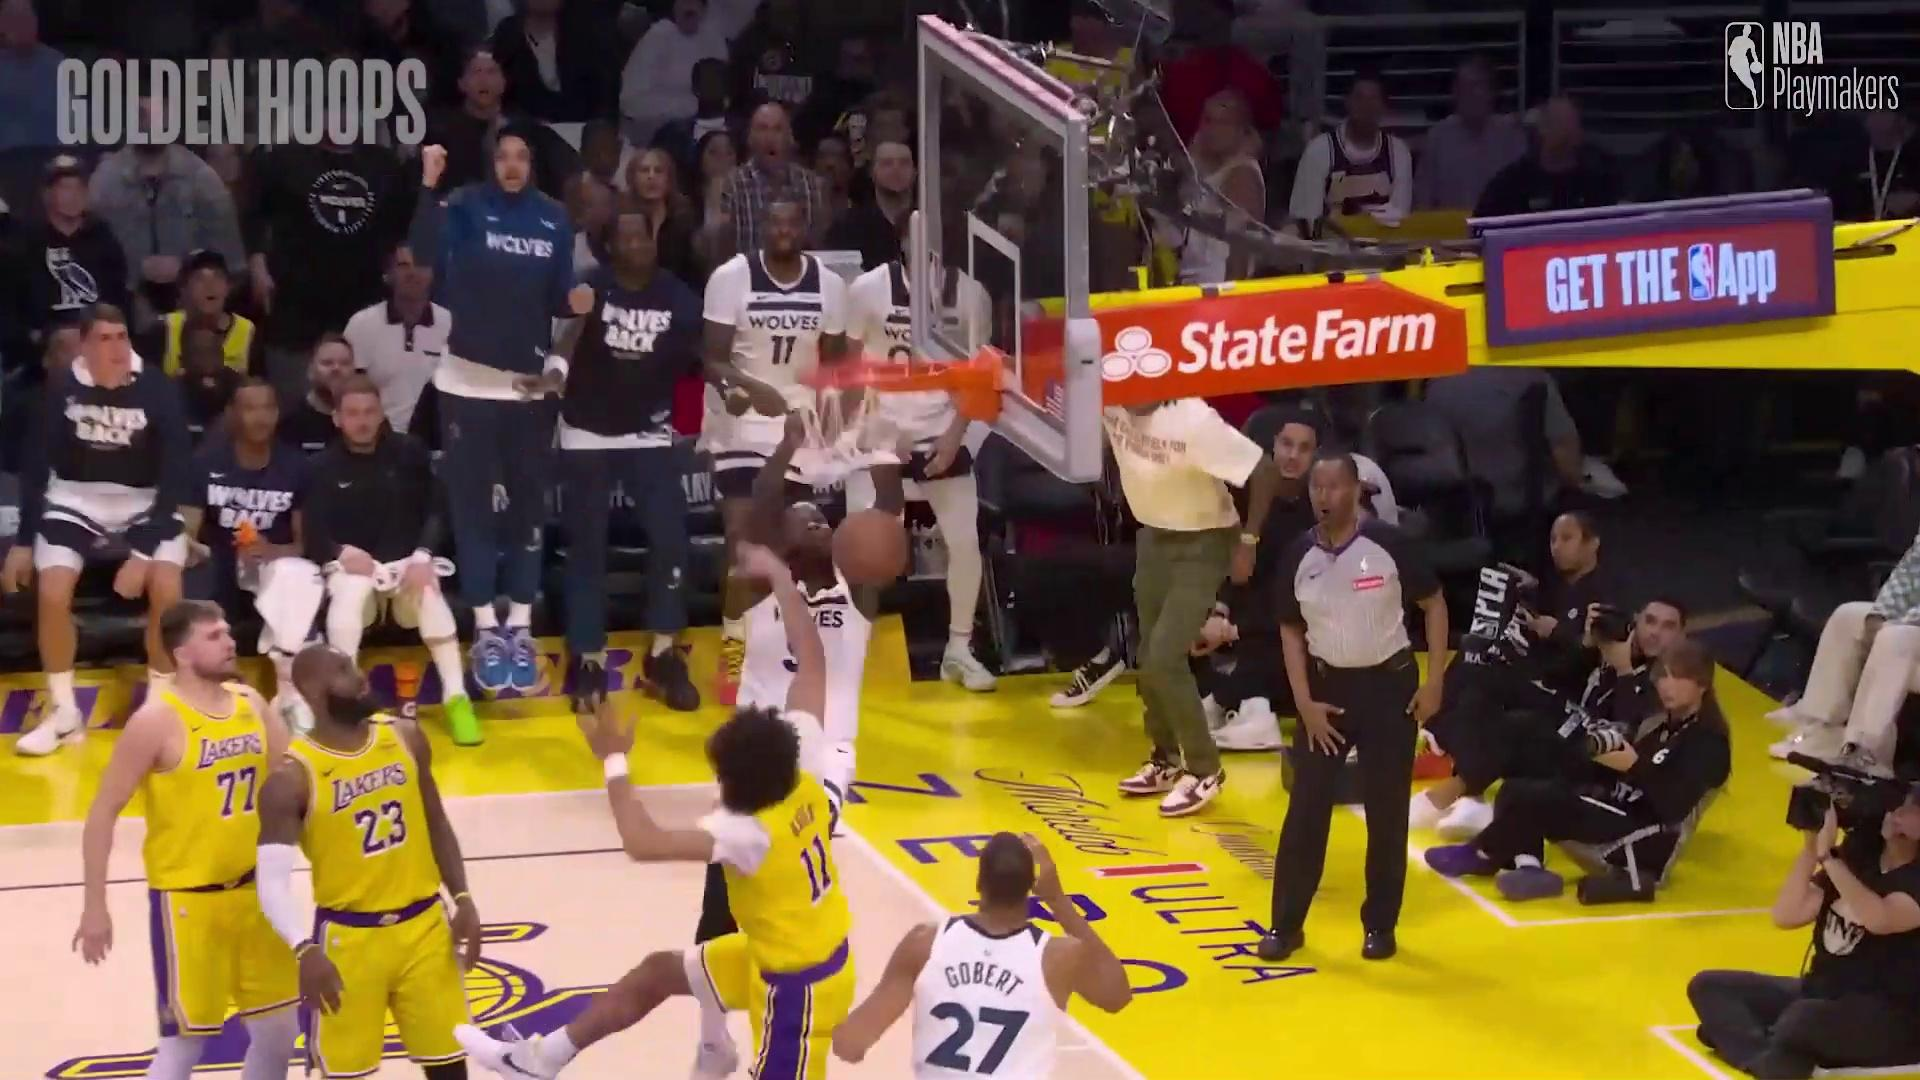ball: (828, 514, 915, 607)
hoop: (802, 332, 945, 481)
